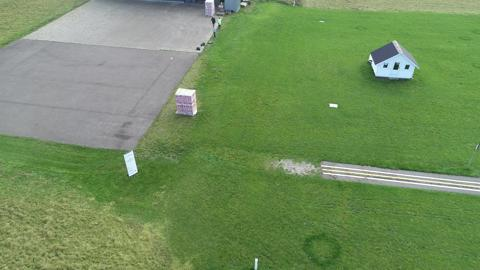RockwoolPallet: (205, 0, 216, 17)
